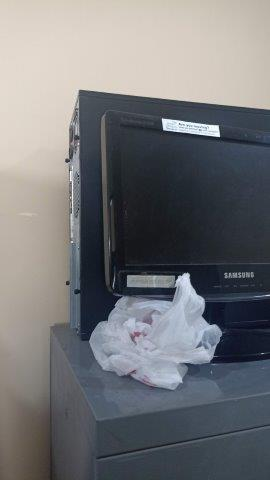plastik: (89, 272, 222, 391)
